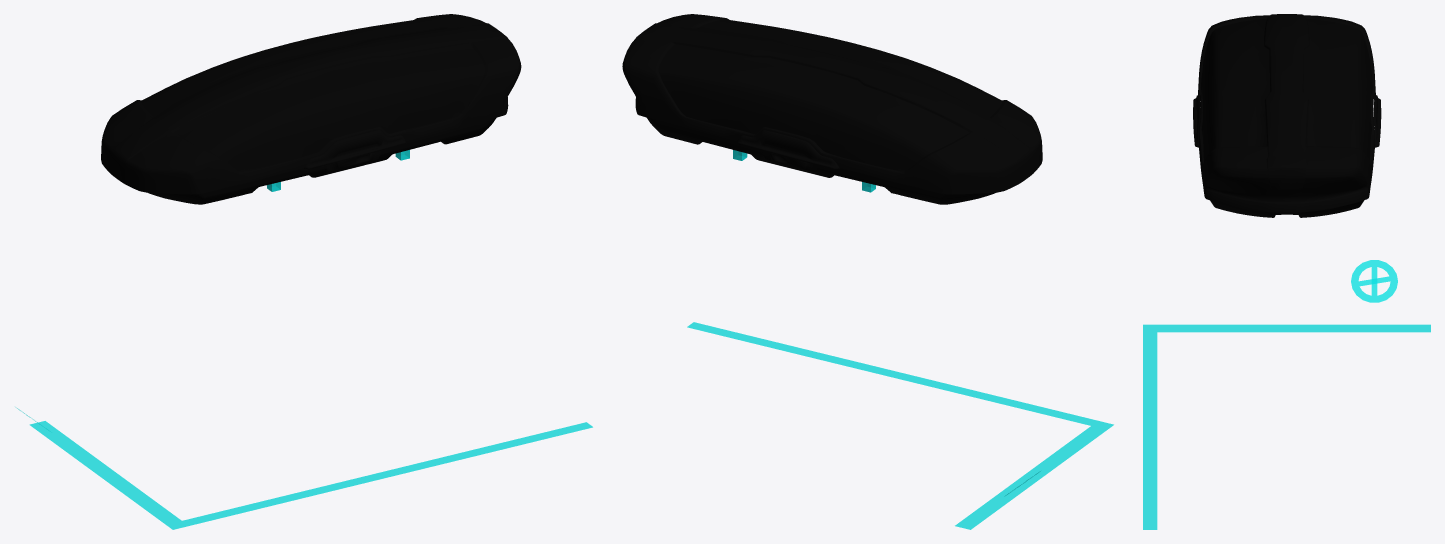
The model's file is Ctypee.glb.
3 renders of one model, left to right at view 1: azimuth 30°, elevation 25°; view 2: azimuth 150°, elevation 25°; view 3: azimuth 270°, elevation 25°, orthographic.
Visible parts, largest first — view 1: XT_XL_low, Plane001; view 2: XT_XL_low, Plane001; view 3: XT_XL_low, Plane001, Tube001.
Part boxes in pixels (<box>): XT_XL_low: <box>101,14,521,204</box>; Plane001: <box>29,421,592,529</box>; XT_XL_low: <box>622,14,1042,204</box>; Plane001: <box>687,322,1113,529</box>; XT_XL_low: <box>1193,14,1381,217</box>; Plane001: <box>1143,324,1430,529</box>; Tube001: <box>1351,260,1397,302</box>.
Size of the model in its own units: 2.57 by 1.95 by 1.39.
Materials: 3 (2 with a texture image).
